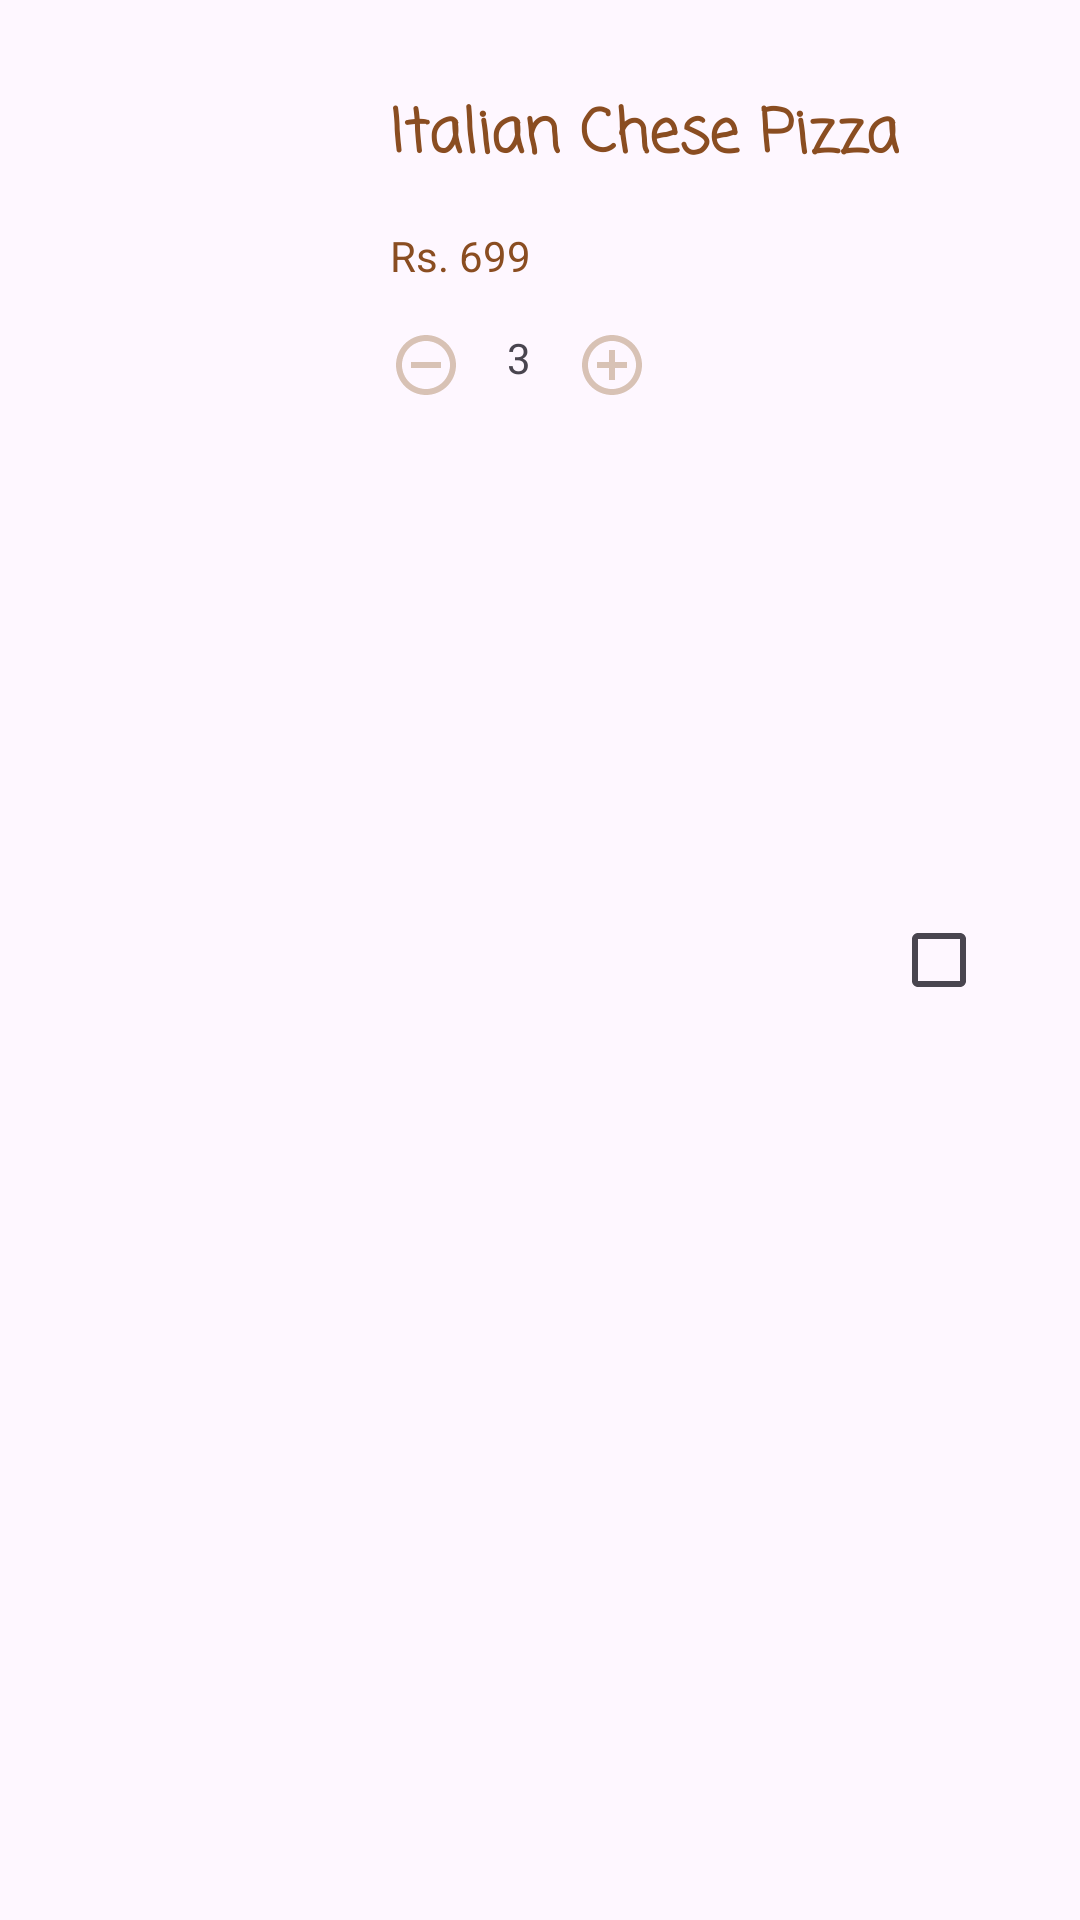

Screen size 1080×1920. Icon name, then its center in pixels as (x,y):
add: (612,365)
remove: (426,365)
